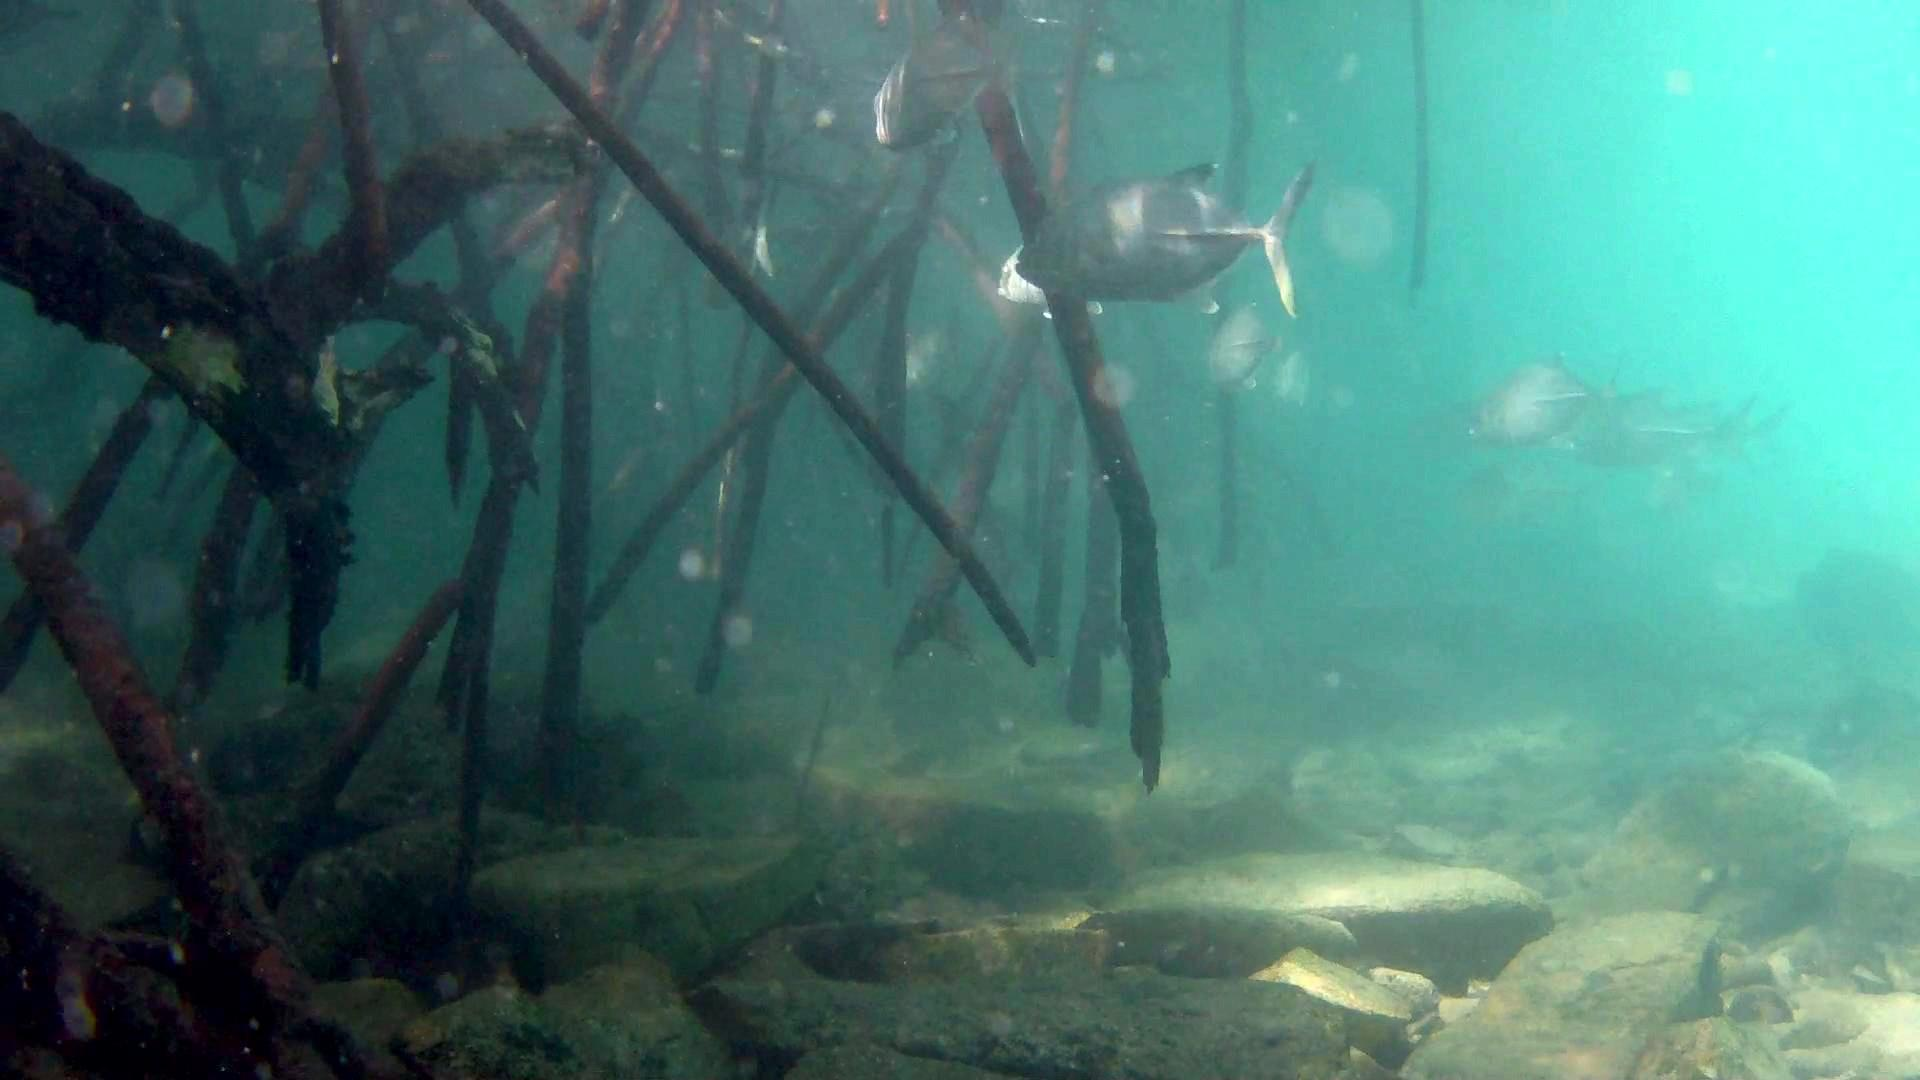caranx: (1001, 150, 1336, 327), (861, 0, 1039, 169)
